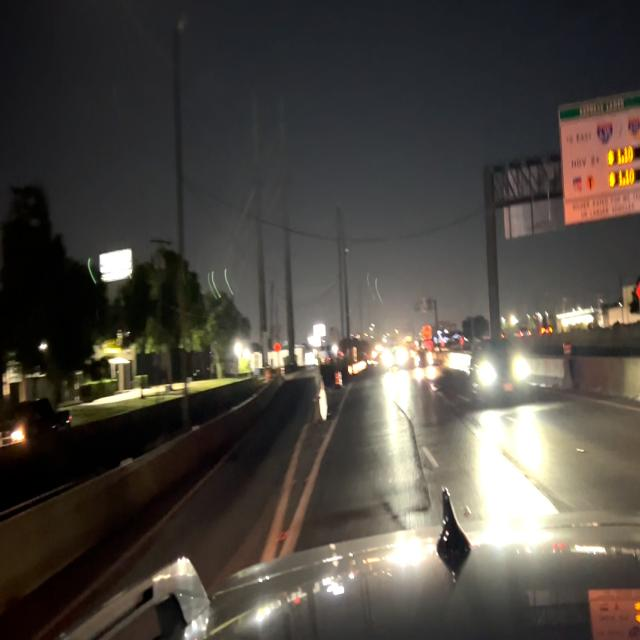back-of-sign: (500, 154, 561, 245)
